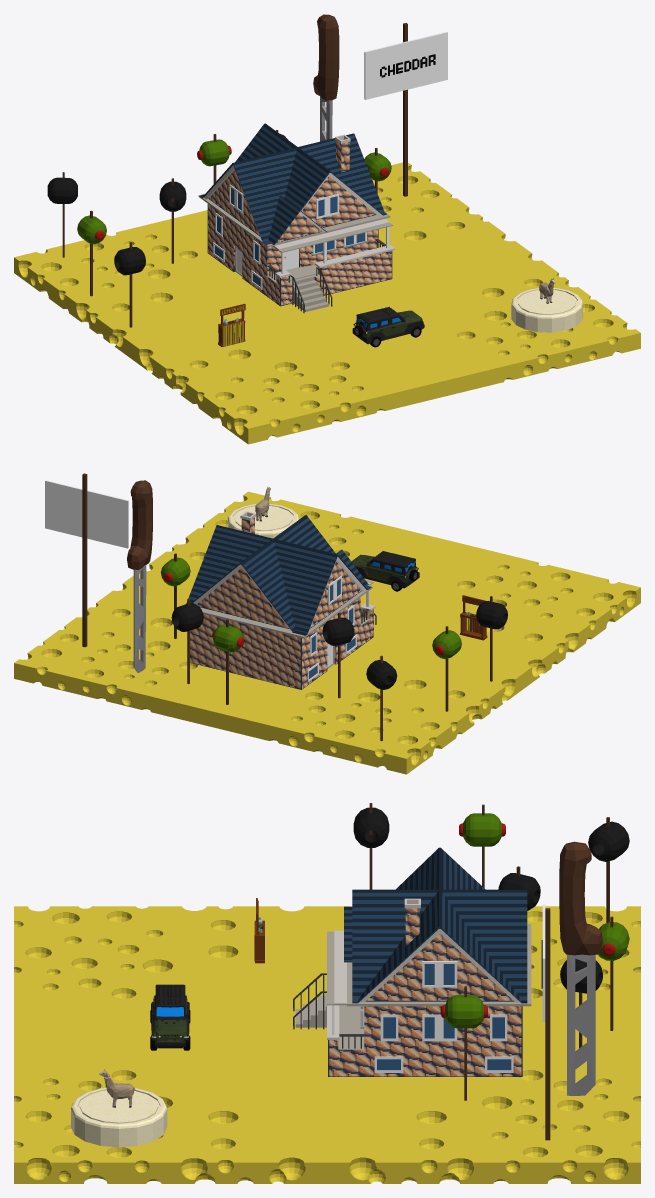
3 views of the same model, one above another, from view 1: azimuth 30°, elevation 25°; view 2: azimuth 150°, elevation 25°; view 3: azimuth 270°, elevation 25° (orthographic). The views are drawn at different scales.
Parts seen in each view (by area): view 1: Cube.022, Cube.430, Cube.023, Cylinder.016, Cube.024, VEHICLES_JEEP, Sphere.017, OBJRANDOM_LEMONADE_STAND, Sphere.016, Sphere.020, Sphere.018, Sphere.022 (+1 smaller); view 2: Cube.022, Cube.430, Cube.023, Cube.024, VEHICLES_JEEP, Cylinder.016, Sphere.017, Sphere.020, Sphere.021, Sphere.016, Sphere.018, Sphere.022 (+2 smaller); view 3: Cube.022, Cube.430, Cube.024, Cylinder.016, VEHICLES_JEEP, Cube.023, Sphere.019, Sphere.016, Sphere.018, Sphere.017, Sphere.022, Sphere.020 (+3 smaller).
Boxes of the visible parts, x1,y1,x2,y2 form: Cube.022: (14,162,640,444); Cube.430: (198,123,395,313); Cube.023: (364,23,447,196); Cylinder.016: (511,288,582,332); Cube.024: (313,14,339,141); VEHICLES_JEEP: (352,306,424,347); Sphere.017: (114,242,145,327); OBJRANDOM_LEMONADE_STAND: (218,303,245,346); Sphere.016: (47,172,77,257); Sphere.020: (159,178,186,263); Sphere.018: (77,210,106,296); Sphere.022: (197,134,231,183); Cube.022: (14,491,640,774); Cube.430: (185,511,376,689); Cube.023: (45,473,128,647); Cube.024: (127,480,152,672); VEHICLES_JEEP: (351,551,419,591); Cylinder.016: (228,503,298,538); Sphere.017: (476,596,507,681); Sphere.020: (322,612,354,698); Sphere.021: (171,598,203,683); Sphere.016: (366,655,397,741); Sphere.018: (432,626,461,711); Sphere.022: (212,619,244,704); Cube.022: (14,906,640,1183); Cube.430: (293,847,531,1076); Cube.024: (559,841,602,1095); Cylinder.016: (71,1088,167,1147); VEHICLES_JEEP: (150,984,190,1050); Cube.023: (541,904,550,1140); Sphere.019: (441,986,487,1100); Sphere.016: (588,817,629,922); Sphere.018: (459,804,505,887); Sphere.017: (353,803,389,889); Sphere.022: (598,916,629,1030); Sphere.020: (498,866,540,910).
Bounding box in the file's own units: 3917 × 2159 × 4000.
40 materials, 4 textured.
